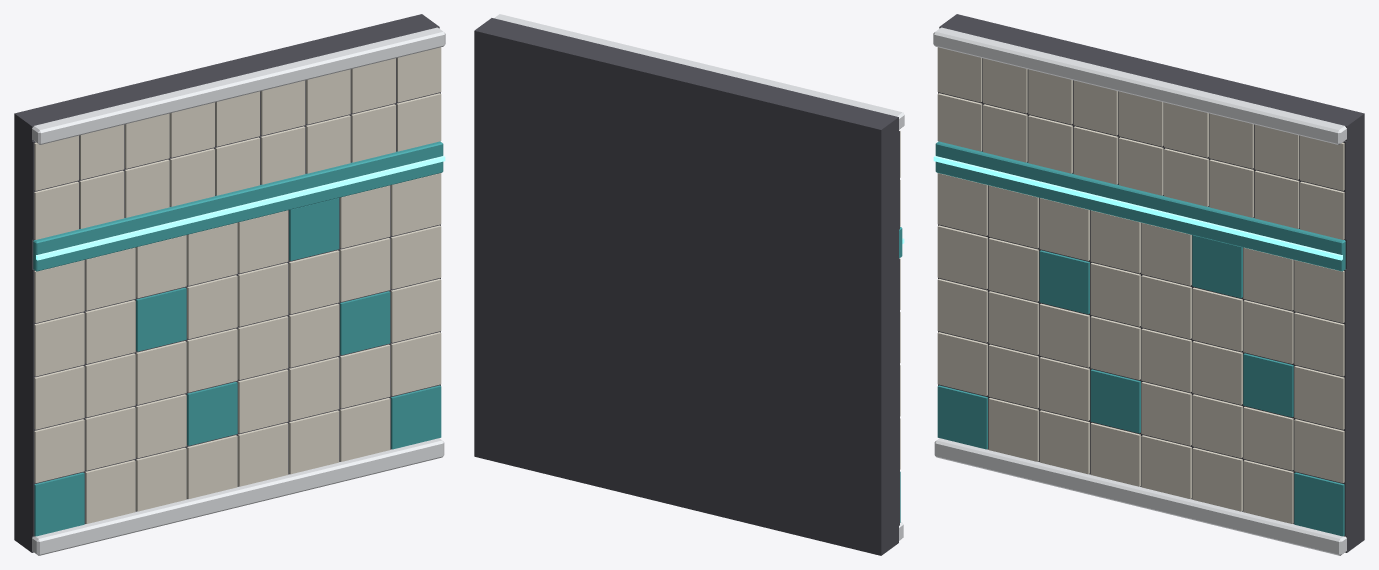
The model's file is wall_mp_tile.glb.
The picture shows the model from 3 angles, left to right: view 1: azimuth 30°, elevation 25°; view 2: azimuth 150°, elevation 25°; view 3: azimuth 330°, elevation 25°; orthographic projection.
Parts seen in each view (by area): view 1: wall_mp_tile; view 2: wall_mp_tile; view 3: wall_mp_tile.
Boxes of the visible parts, x1,y1,x2,y2 form: wall_mp_tile: (14,14,445,555); wall_mp_tile: (474,14,904,555); wall_mp_tile: (933,14,1364,555).
Bounding box in the file's own units: 4 × 4 × 0.42.
